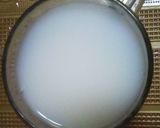produk_susu: (38, 14, 124, 122)
